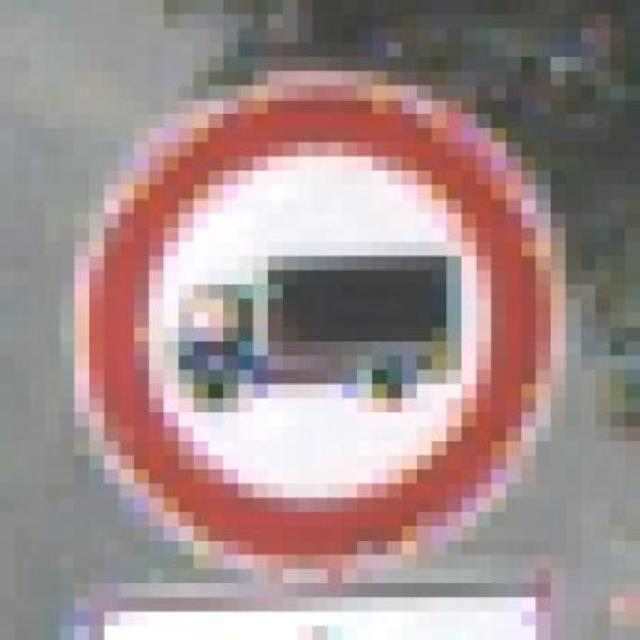Truck traffic is prohibited: (29, 57, 596, 583)
